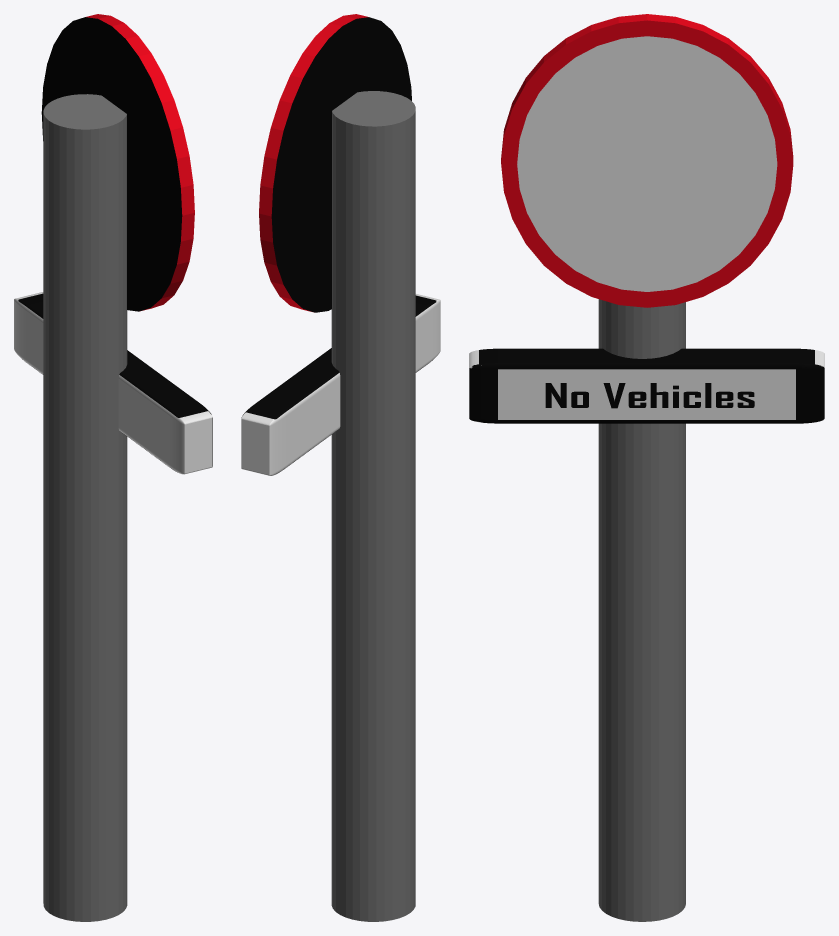
File: no_vehicles.fbx
3 views of the same model, side by side, from view 1: azimuth 30°, elevation 25°; view 2: azimuth 150°, elevation 25°; view 3: azimuth 270°, elevation 25° (orthographic). The views are drawn at different scales.
Visible parts, largest first — view 1: Cylinder, Circle, Cube; view 2: Cylinder, Circle, Cube; view 3: Circle, Cylinder, Cube, Text.
Part boxes in pixels (bbox=[...]): Cylinder: bbox=[43, 94, 127, 921]; Circle: bbox=[41, 14, 194, 311]; Cube: bbox=[14, 292, 212, 474]; Cylinder: bbox=[331, 91, 415, 921]; Circle: bbox=[259, 14, 411, 312]; Cube: bbox=[241, 294, 440, 475]; Circle: bbox=[501, 14, 793, 307]; Cylinder: bbox=[598, 299, 685, 921]; Cube: bbox=[469, 348, 824, 423]; Text: bbox=[545, 383, 754, 408].
Size of the model in its own units: 2.3 by 22.82 by 8.12.
